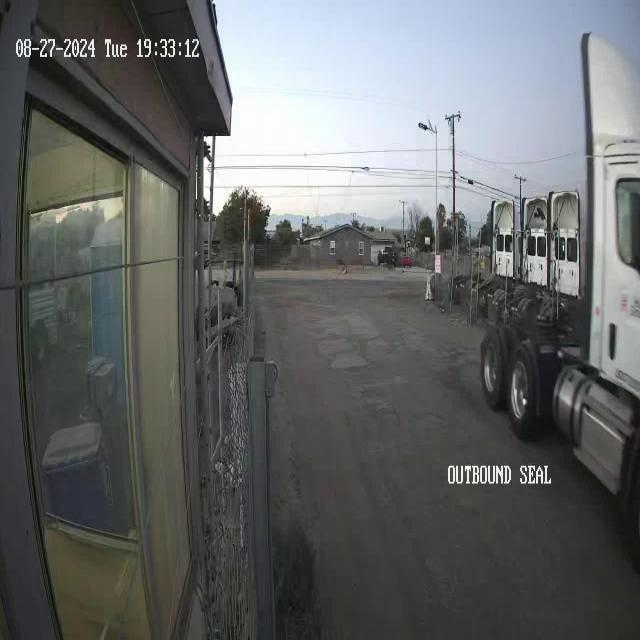TRUCK_IN: (477, 29, 639, 508)
